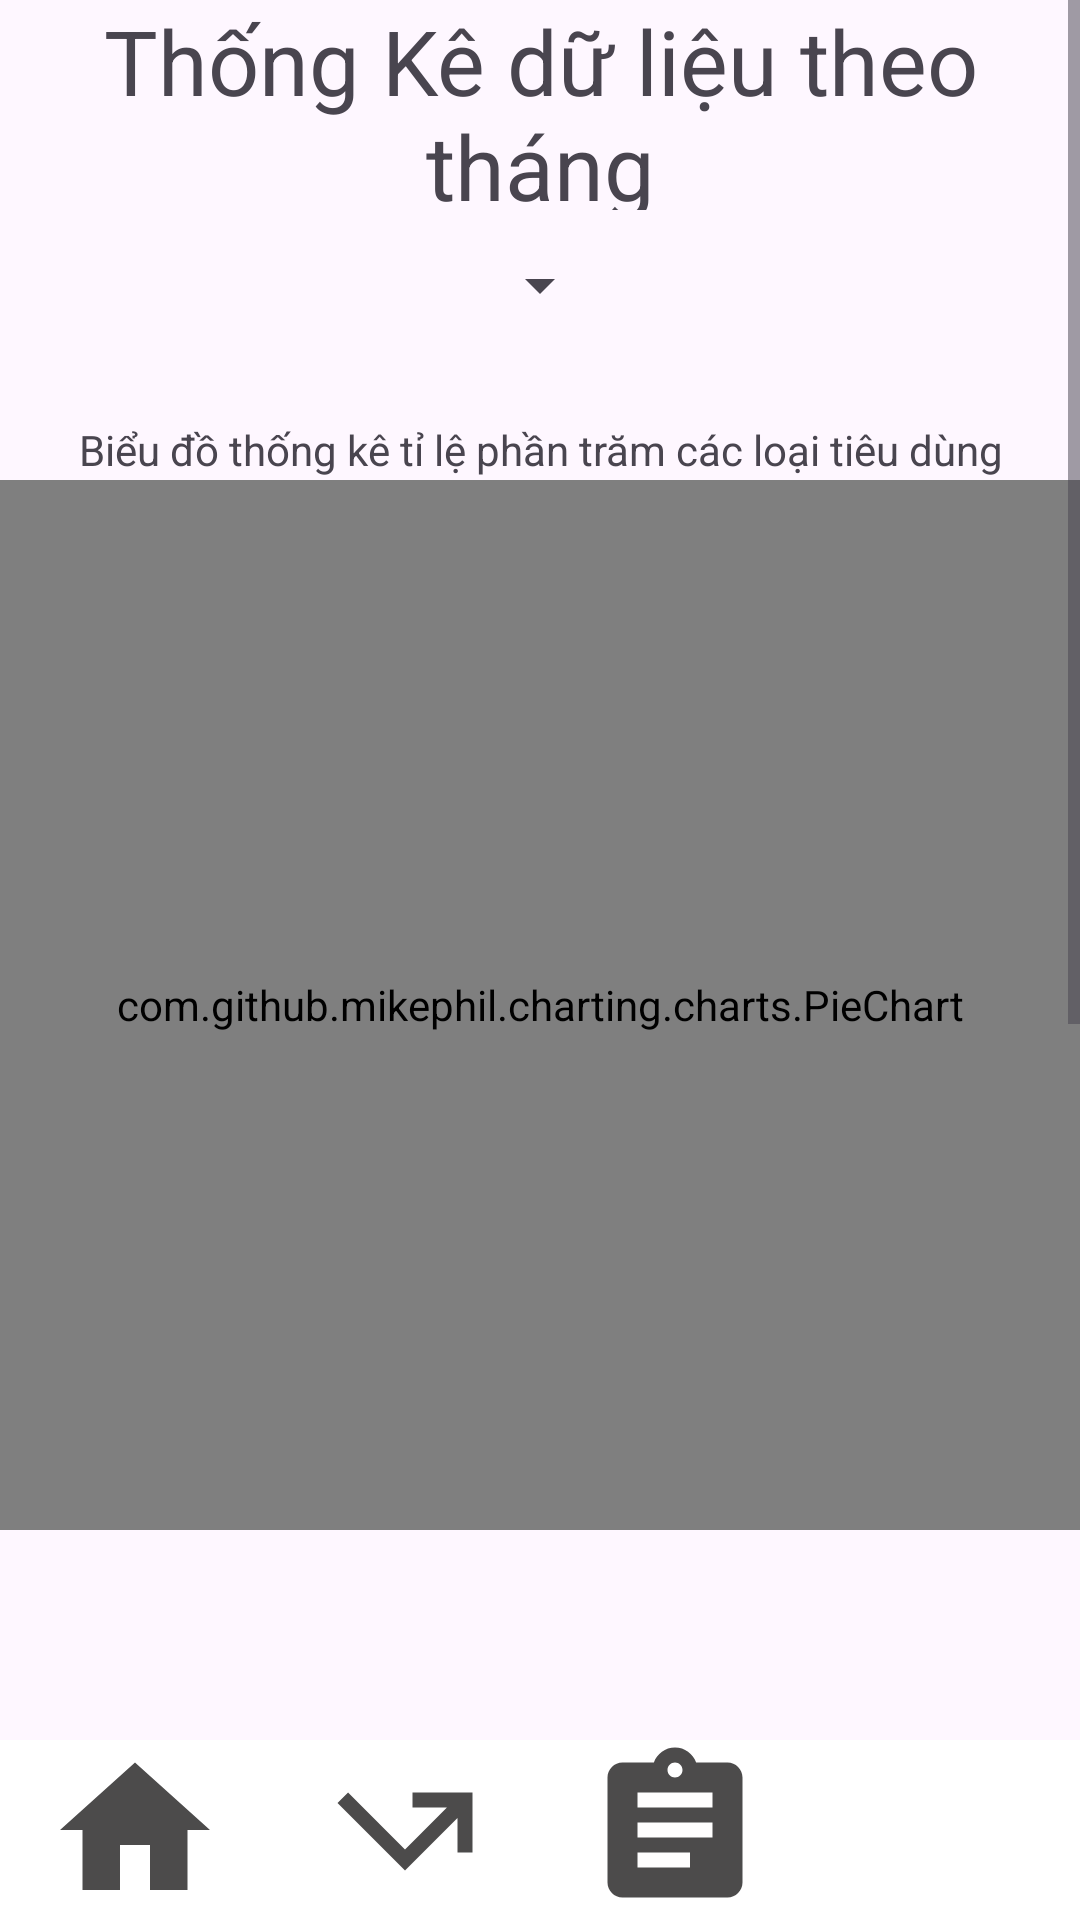

Locate icon controls on the screen. Image size 1080px x 1920px, boxes as (x1, y1, x2, y2).
assignment: (607, 1747, 743, 1898)
call missed outgoing: (338, 1792, 473, 1870)
home: (60, 1763, 210, 1890)
